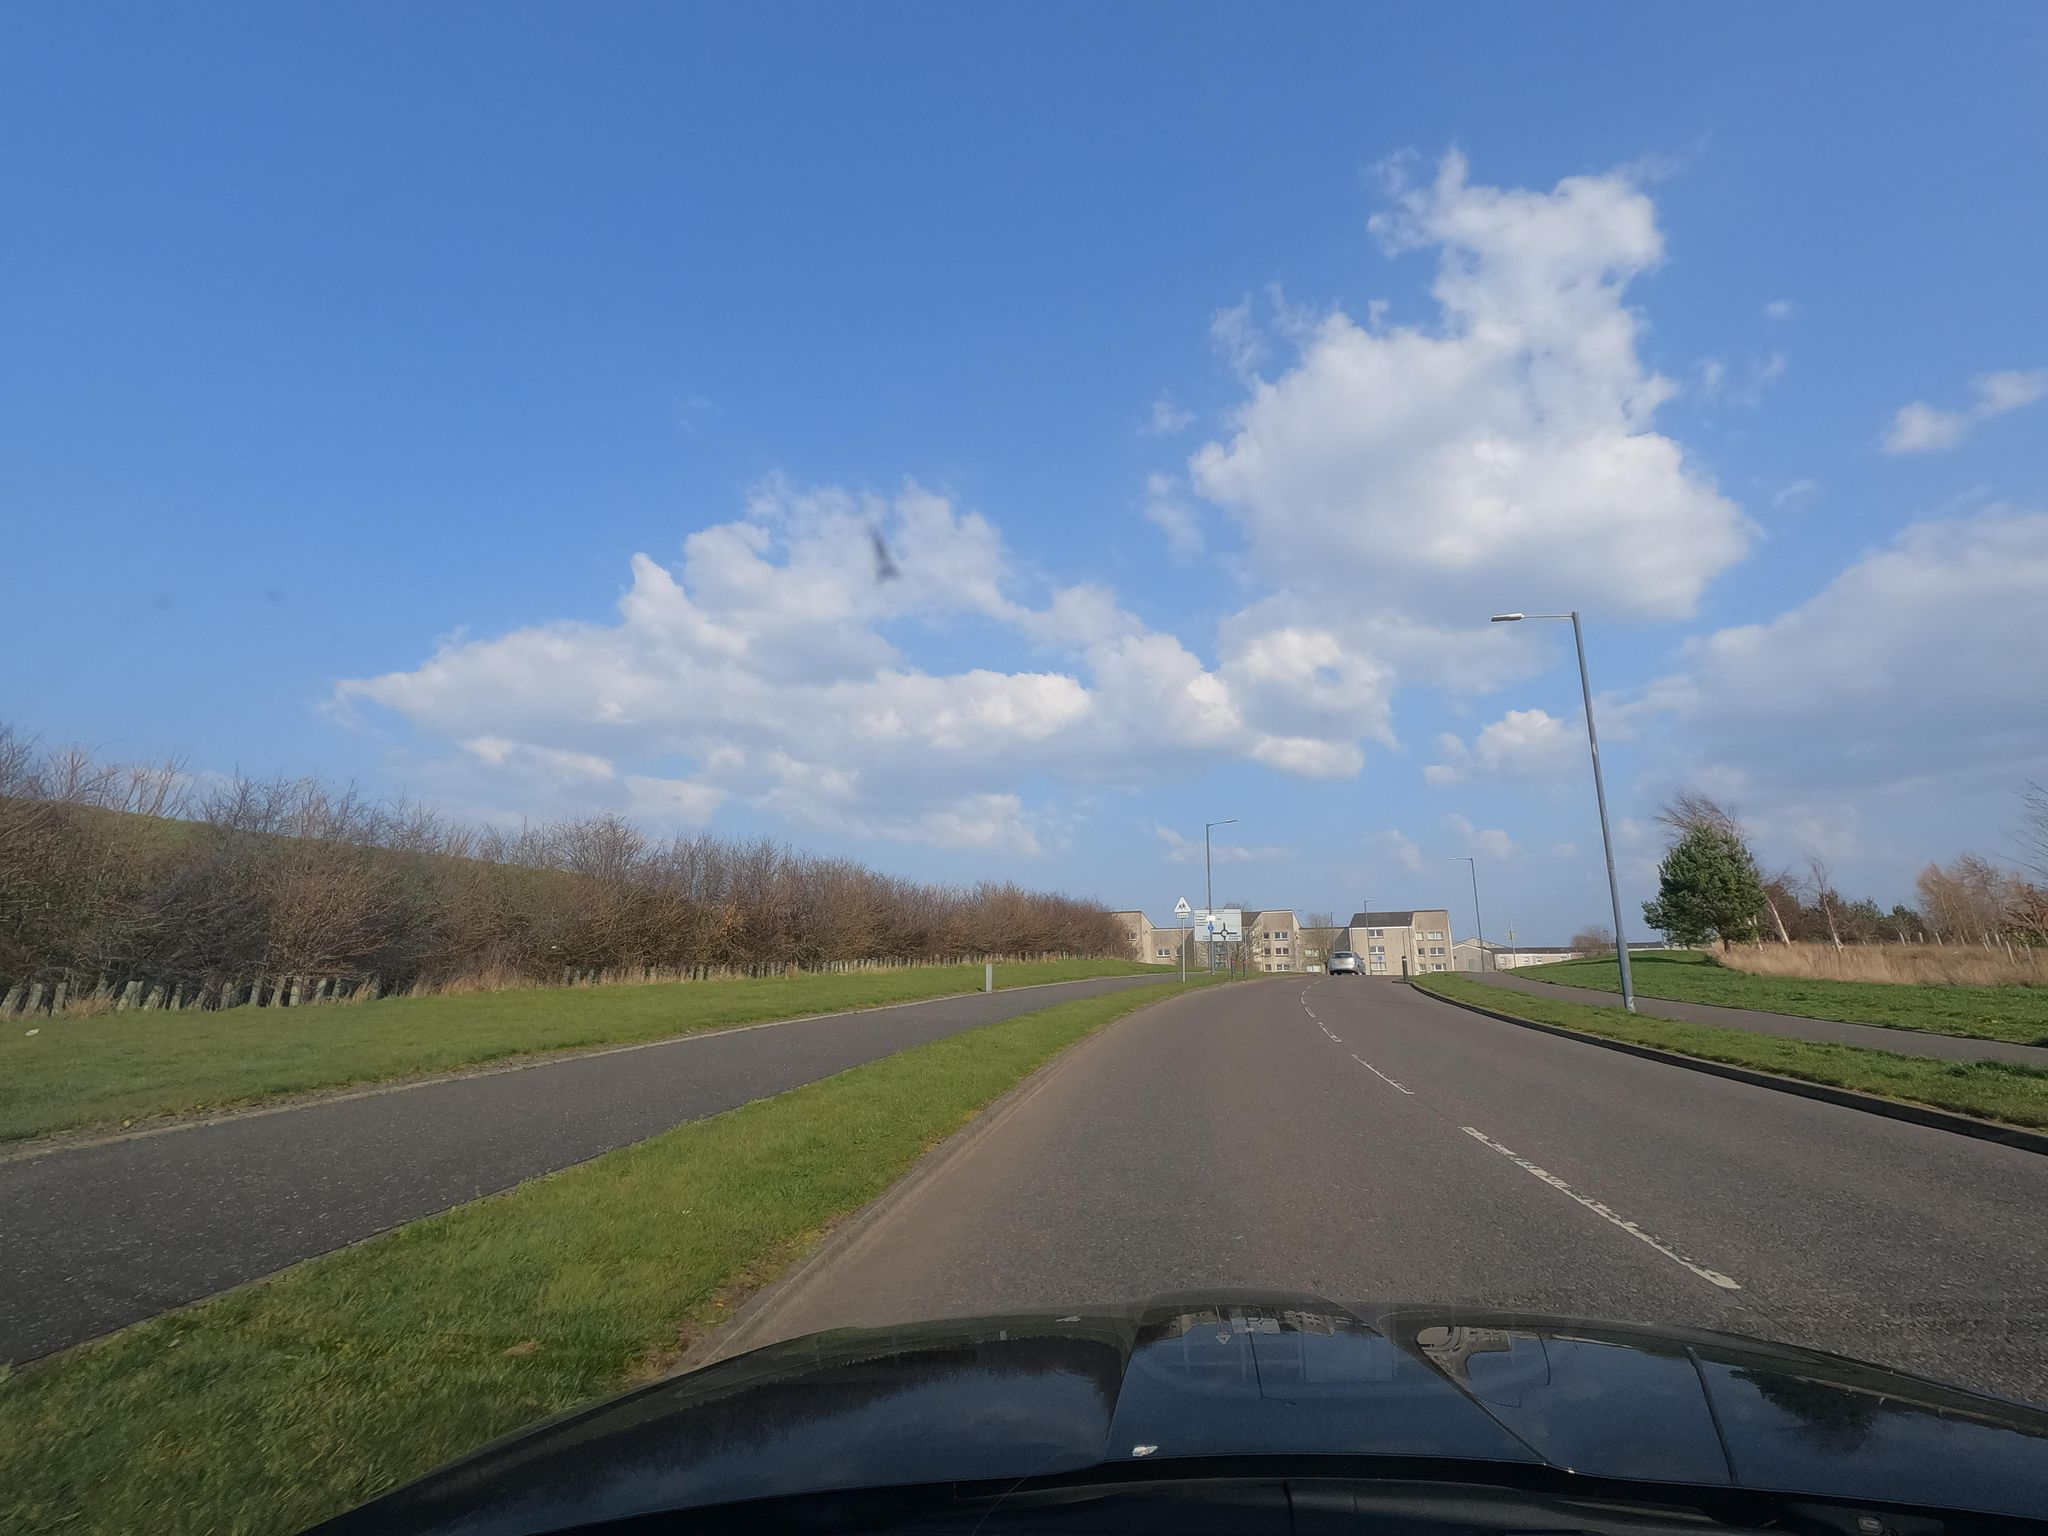car: (1327, 950, 1364, 975)
